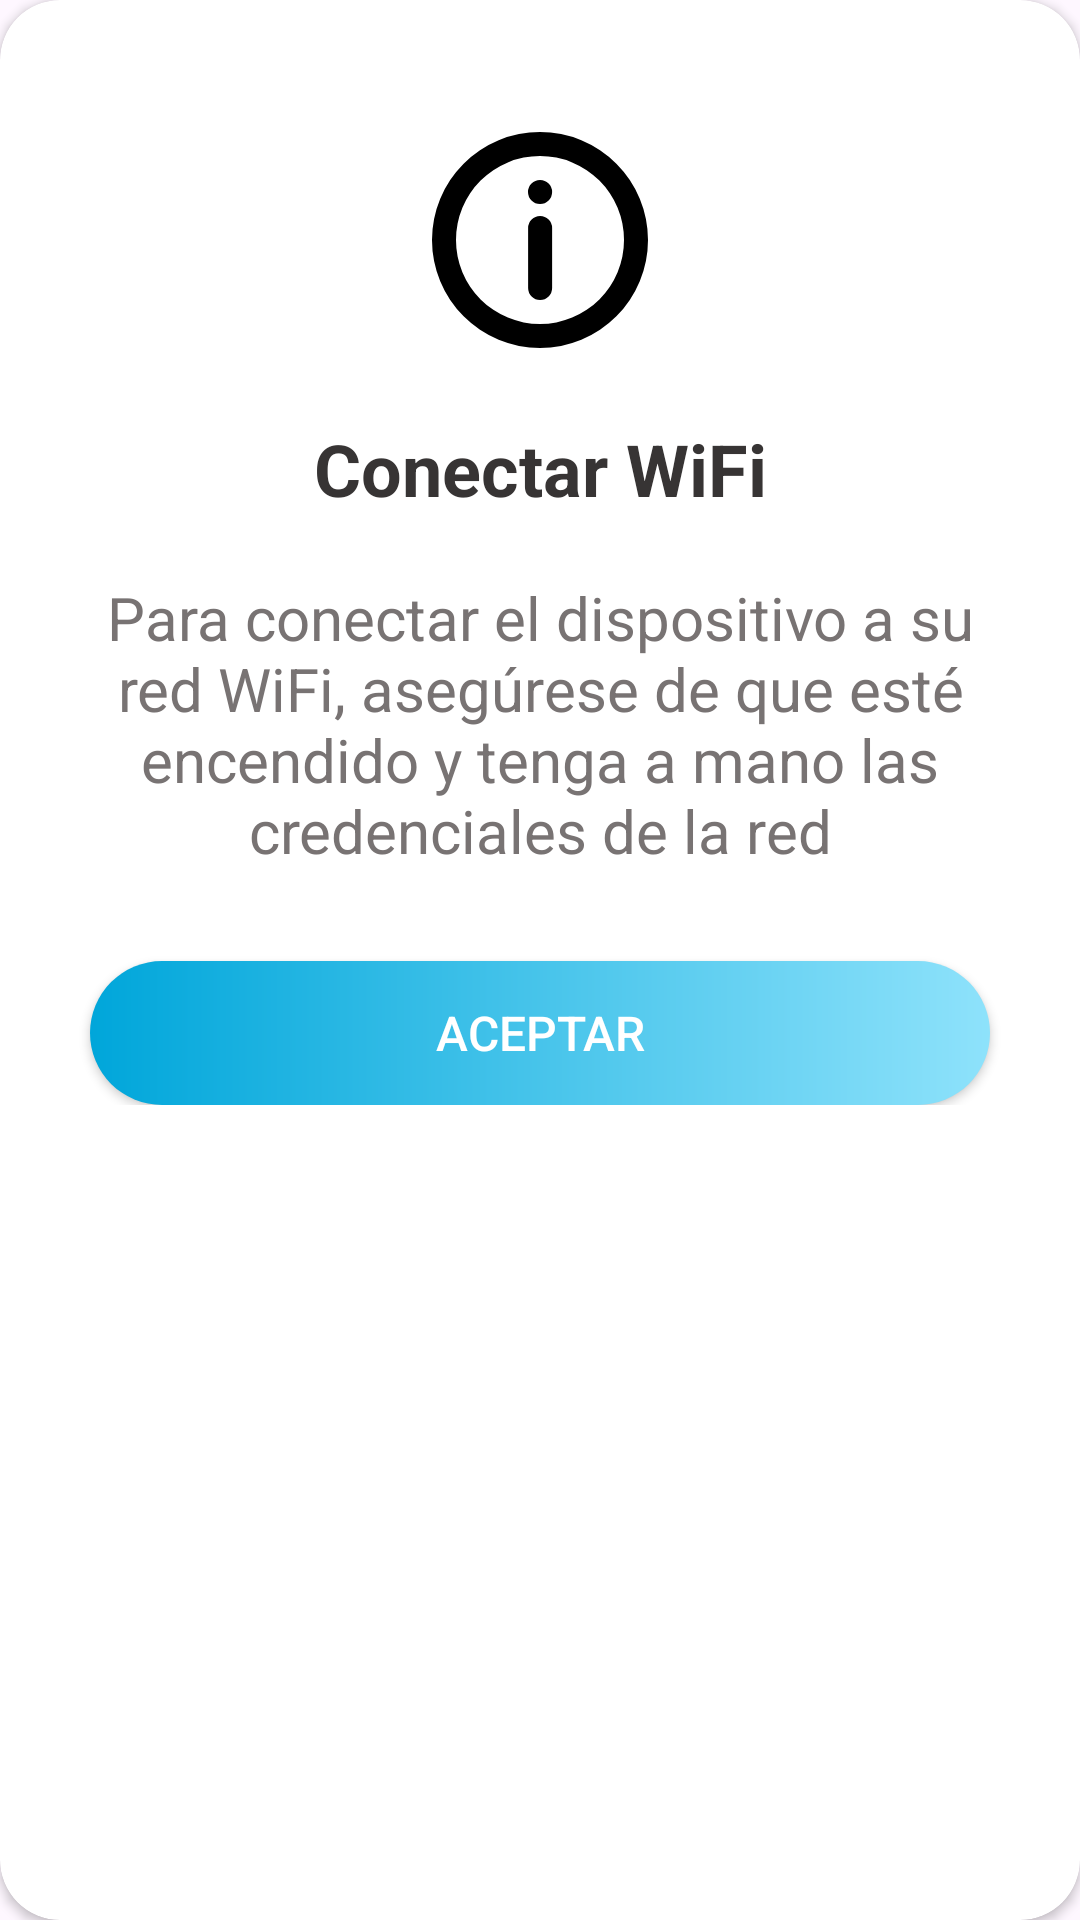

Locate icon controls on the screen. Image size 1080 × 1920, boxes as Rect(x1, y1, x2, y2).
info: Rect(432, 132, 648, 348)
